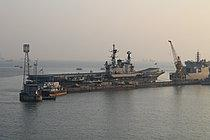MIL_Ship: (28, 44, 166, 85)
